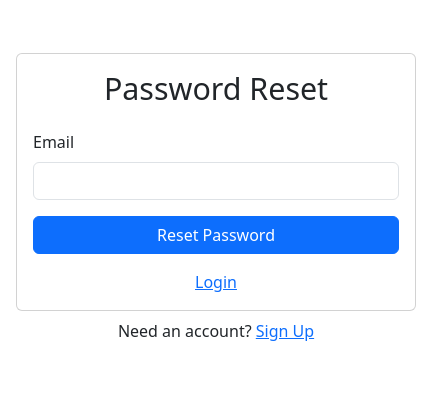
Test: Authentication Components › ForgotPassword › resets password successfully
Type "user@example.com" into the field. click: [216, 181]
box: [33,162,399,200]
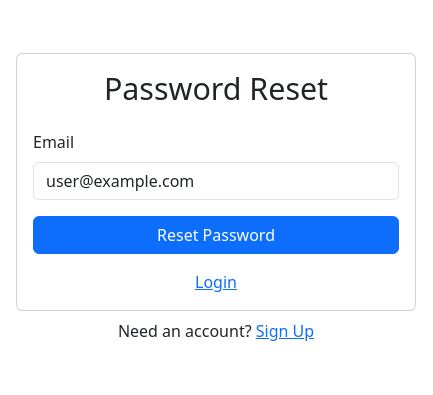
Click the button "Reset Password". click: [216, 235]
box: [33,216,399,254]
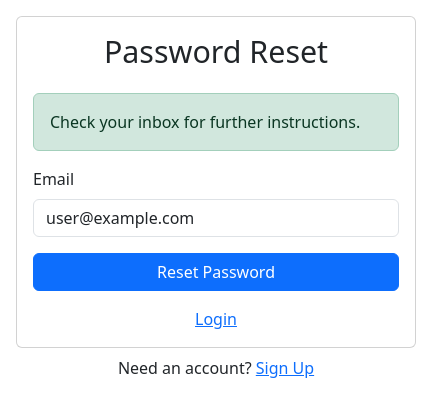
Expected: the text "Check your inbox for further instructions." is shown, [33,93,399,151]
